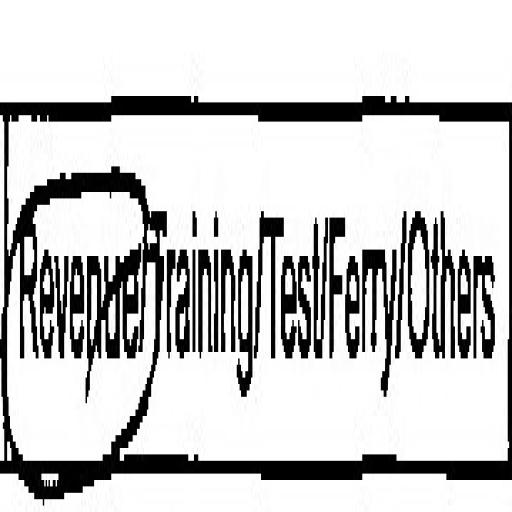check: (3, 0, 150, 512)
